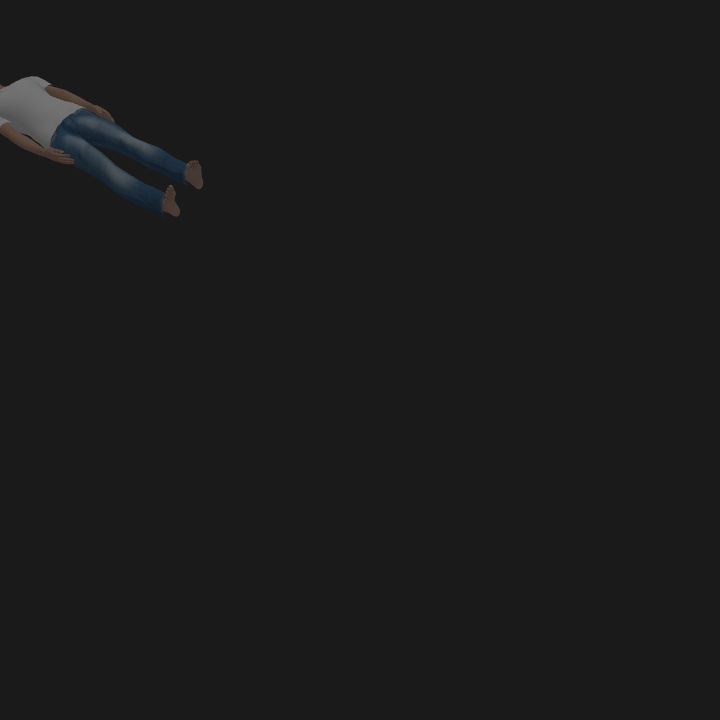victim: (1, 76, 203, 216)
